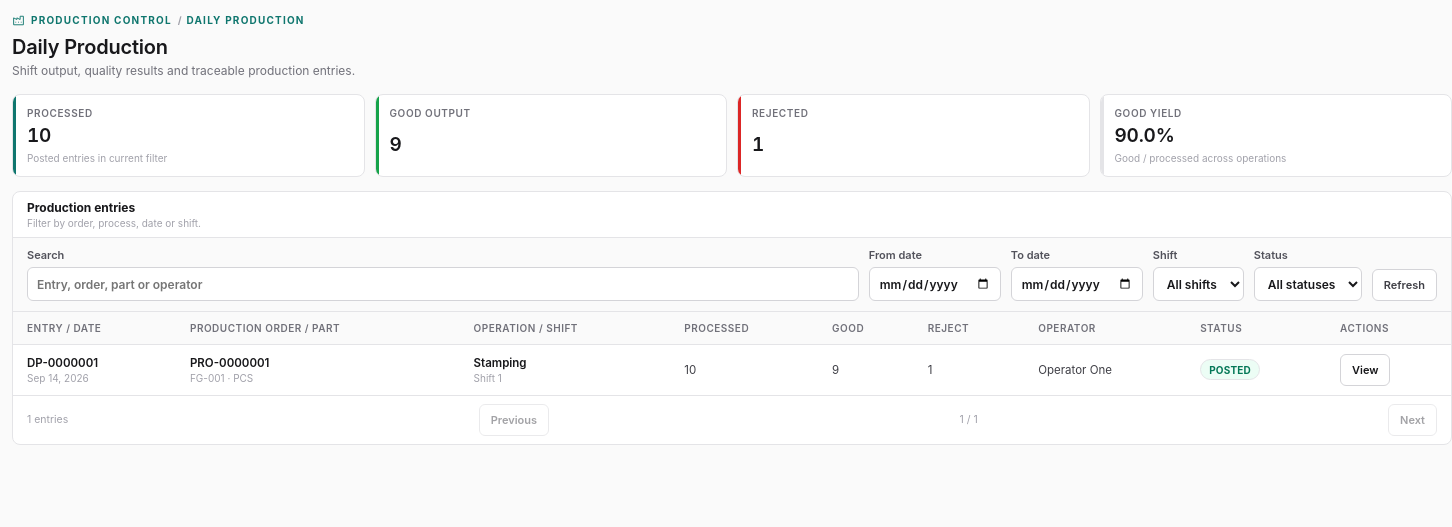
lists production entries and hides writes for viewers
Check: the link "DP-0000001" is shown, box x1=27 y1=356 x2=98 y2=370
Check: the text "Operator One" is shown, box x1=1024 y1=344 x2=1186 y2=394
Select "VOIDED" in the dropdown named "Status filter": (1308, 284) x1=1254 y1=267 x2=1362 y2=301
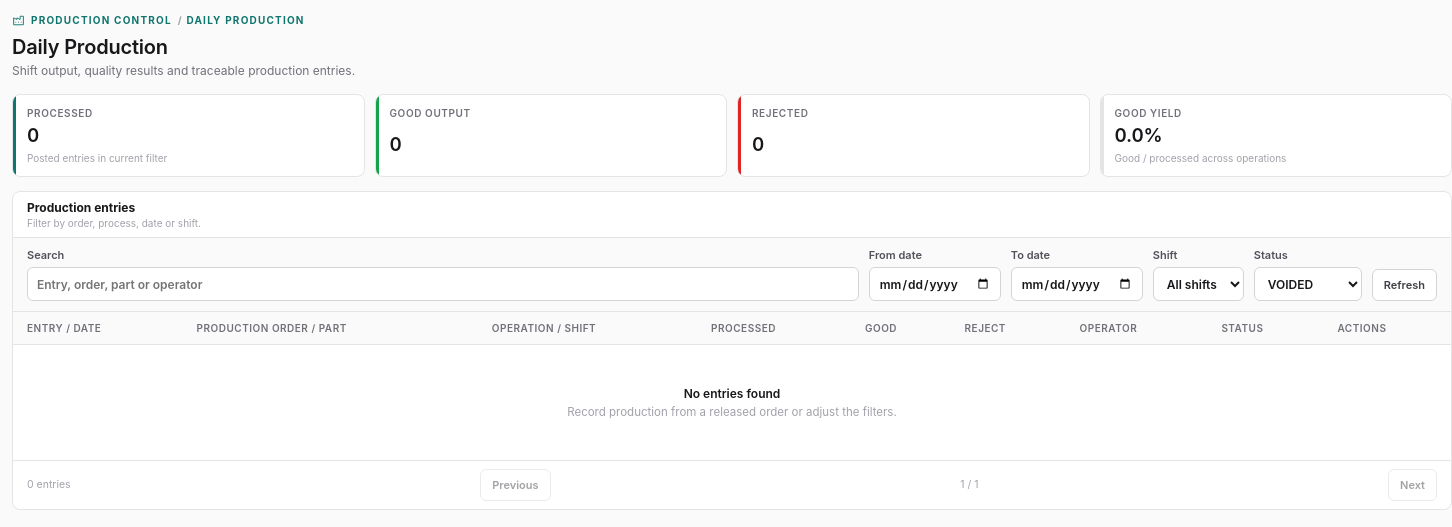
Check: the link "DP-0000001" is gone
